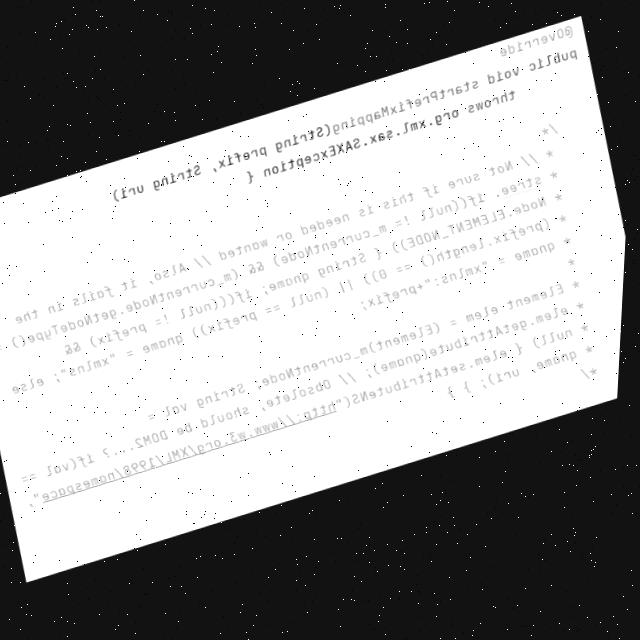code_screen: (0, 17, 625, 579)
